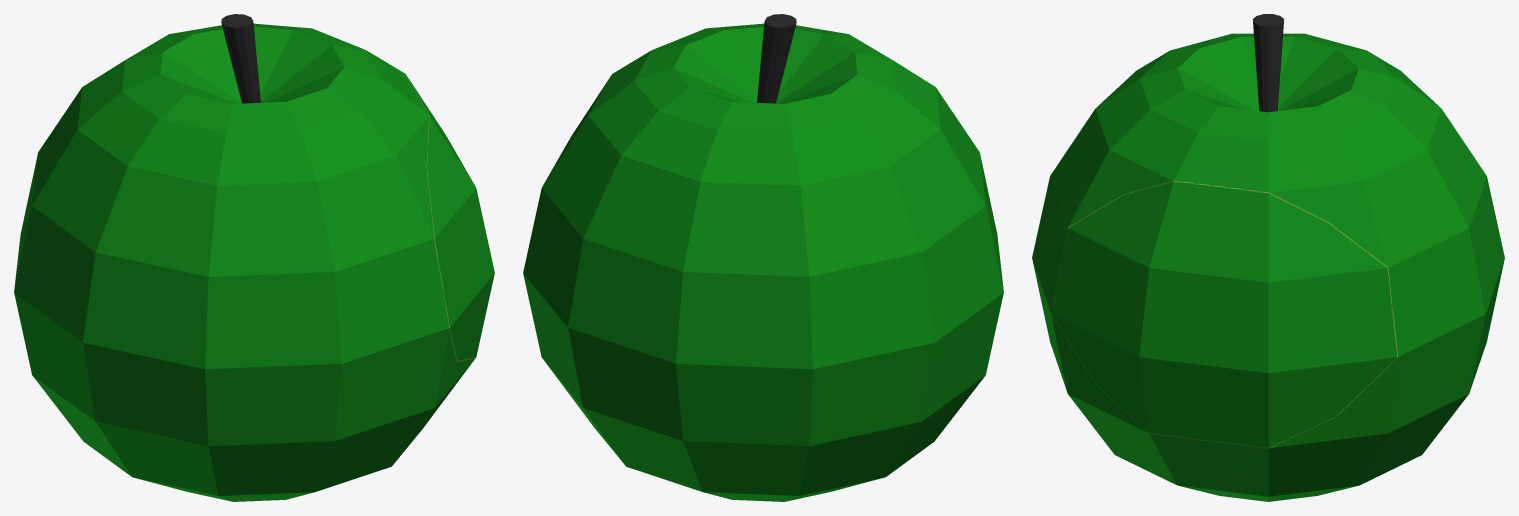
File: apple.fbx
3 views of the same model, side by side, from view 1: azimuth 30°, elevation 25°; view 2: azimuth 150°, elevation 25°; view 3: azimuth 270°, elevation 25° (orthographic). The views are drawn at different scales.
Parts seen in each view (by area): view 1: apple, kus; view 2: apple; view 3: apple, kus.
Boxes of the visible parts, x1,y1,x2,y2 form: apple: (14, 14, 475, 501); kus: (407, 76, 494, 360); apple: (523, 14, 1003, 501); apple: (1032, 14, 1504, 501); kus: (1051, 181, 1397, 448).
Bounding box in the file's own units: 53.26 × 54.81 × 53.81.
1 material, 1 textured.
